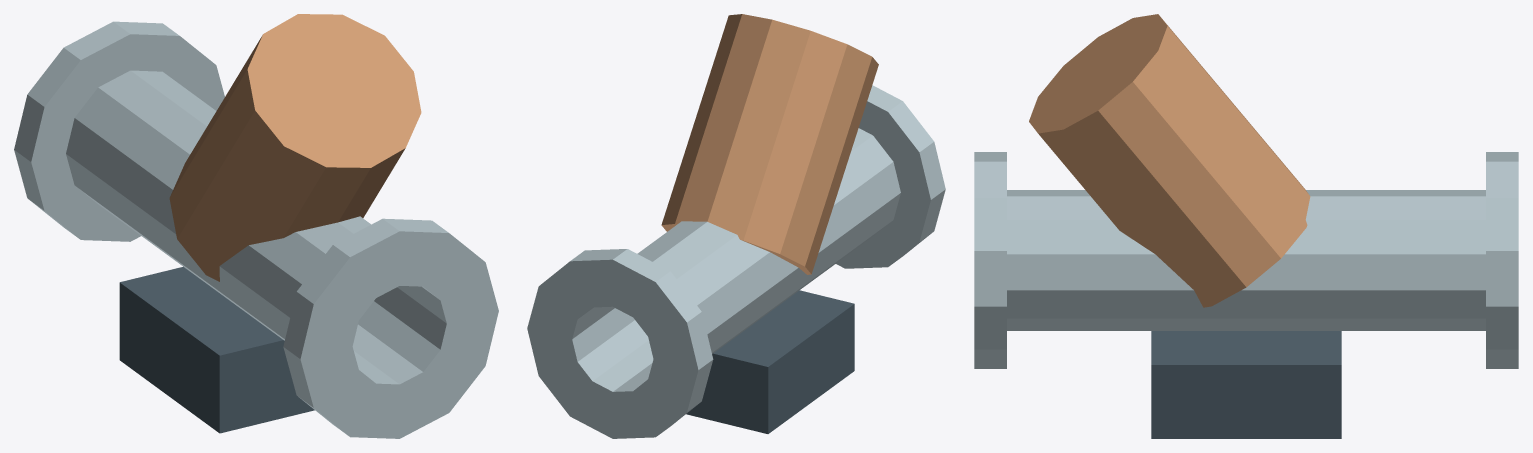
Rendered from y-strainer-pipe.glb.
3 views of the same model, side by side, from view 1: azimuth 30°, elevation 25°; view 2: azimuth 150°, elevation 25°; view 3: azimuth 270°, elevation 25° (orthographic). The views are drawn at different scales.
Visible parts, largest first — view 1: steel, copper, dark; view 2: steel, copper, dark; view 3: steel, copper, dark.
Boxes of the visible parts, x1,y1,x2,y2 form: steel: [14, 21, 498, 438]; copper: [169, 14, 421, 281]; dark: [119, 266, 314, 433]; steel: [527, 85, 945, 438]; copper: [661, 14, 878, 274]; dark: [686, 290, 854, 433]; steel: [974, 152, 1518, 368]; copper: [1029, 14, 1310, 307]; dark: [1151, 331, 1341, 438].
Size of the model in its own units: 0.3999 by 0.7551 by 1.
